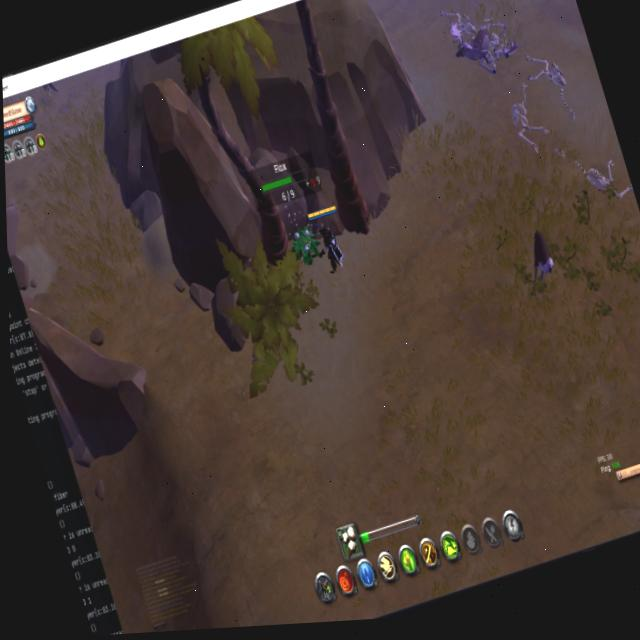hide: (286, 219, 326, 272)
mob: (448, 17, 510, 84)
ore: (510, 220, 568, 307)
red: (305, 200, 353, 276)
